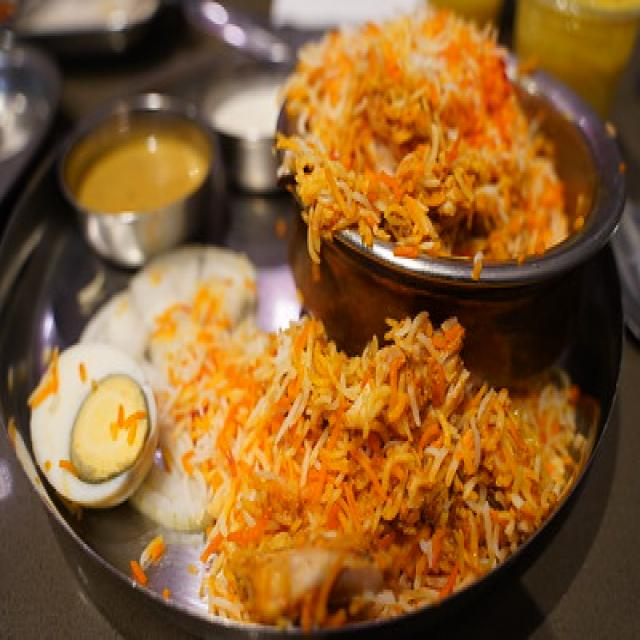Biryani: (200, 334, 543, 582), (283, 34, 557, 245)
